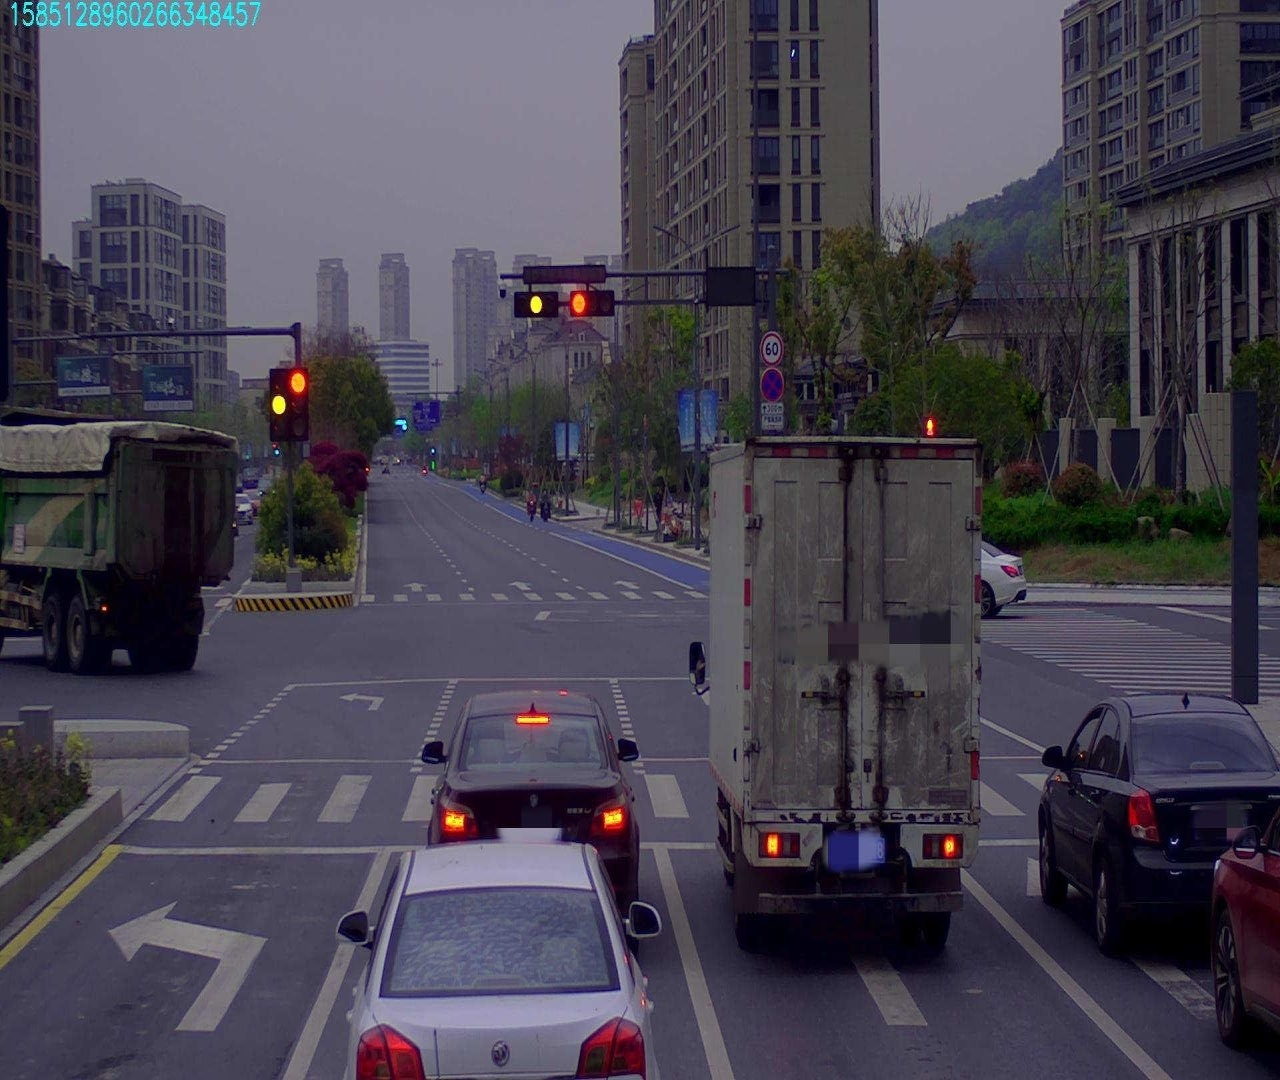red: (571, 292, 620, 322)
yellow: (516, 292, 558, 317)
